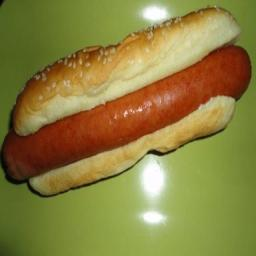hotdog: (2, 4, 252, 198)
